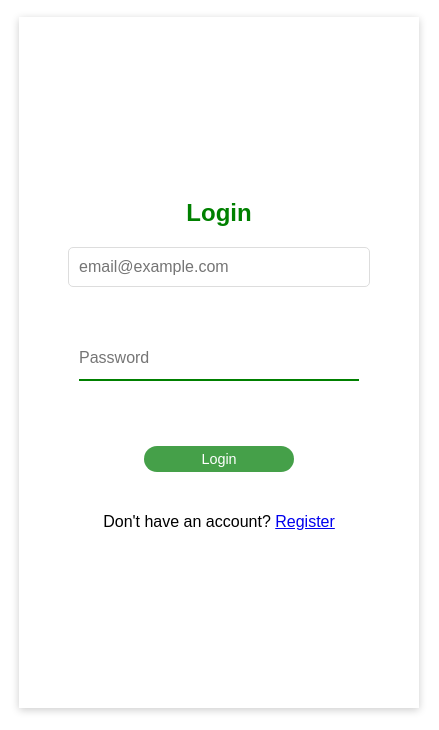
Test: Login Page › displays an error message for failed login attempts
This screenshot has width=439, height=730.
Type "wrong@example.com" into the field with placeholder "email@example.com".
click(219, 267); type("wrong@example.com")  # box [68, 247, 370, 287]
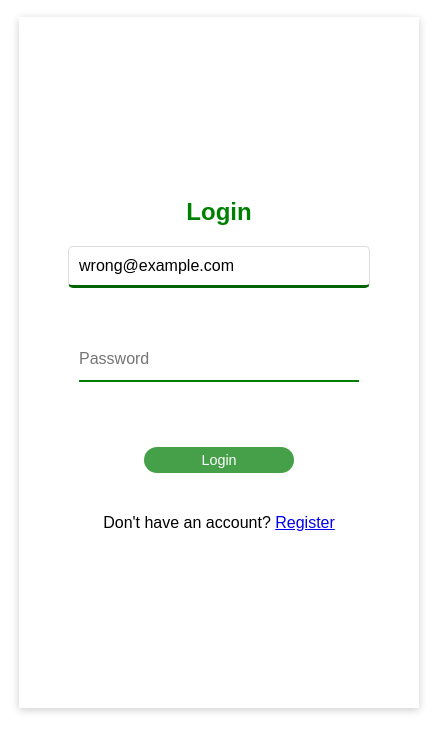
Type "wrongpassword" into the password field with placeholder "Password".
click(219, 360); type("wrongpassword")  # box [79, 338, 359, 382]
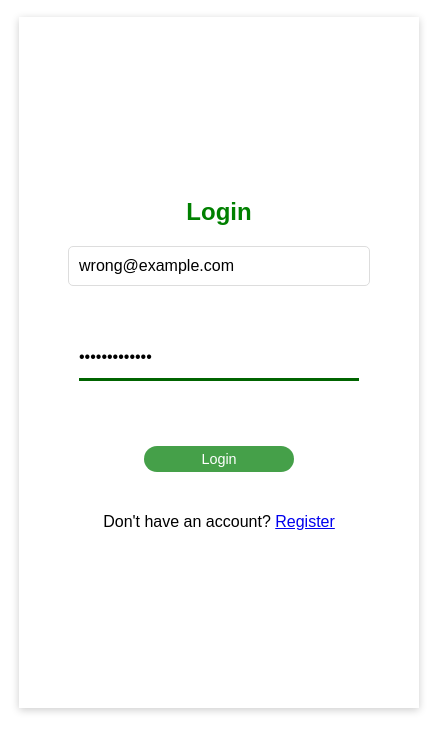
Click the submit button.
click(219, 459)  # box [144, 446, 294, 472]
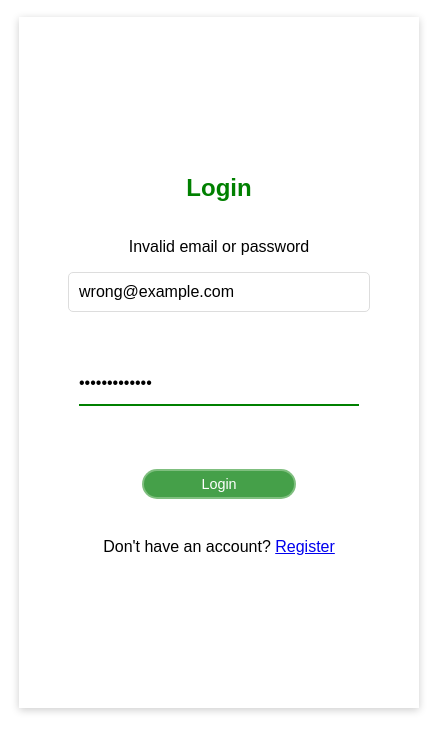
Now the text "Invalid email or password" is shown, box [129, 238, 309, 256]
Now the text with class "error-message" reads "Invalid email or password", box [129, 238, 310, 255]
